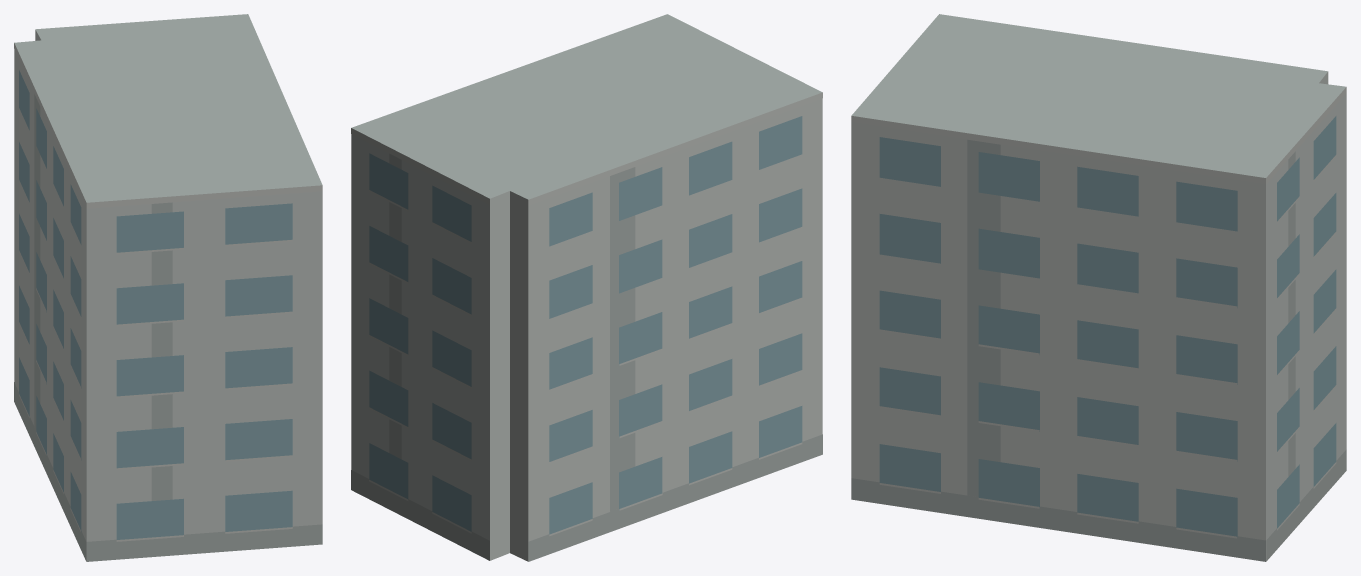
Rendered from survey-upis-32962962.glb.
3 renders of one model, left to right at view 1: azimuth 30°, elevation 25°; view 2: azimuth 150°, elevation 25°; view 3: azimuth 270°, elevation 25°, orthographic. The views are drawn at different scales.
Parts seen in each view (by area): view 1: survey-upis-32962962.tmp; view 2: survey-upis-32962962.tmp; view 3: survey-upis-32962962.tmp.
Boxes of the visible parts, bbox=[...] form: survey-upis-32962962.tmp: bbox=[14, 14, 322, 561]; survey-upis-32962962.tmp: bbox=[351, 14, 822, 561]; survey-upis-32962962.tmp: bbox=[851, 14, 1346, 561].
Size of the model in its own units: 13.21 by 14.4 by 16.85.
